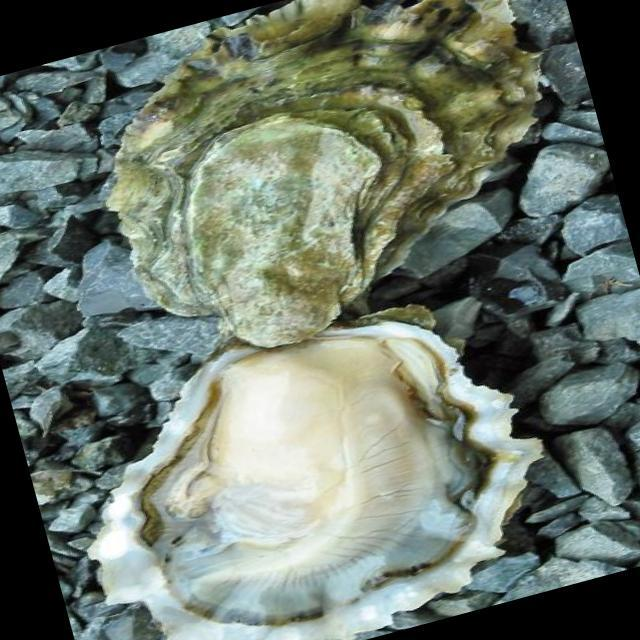Oyster- Indeterminate: (106, 0, 546, 351)
Oyster-Open: (98, 321, 542, 629)
